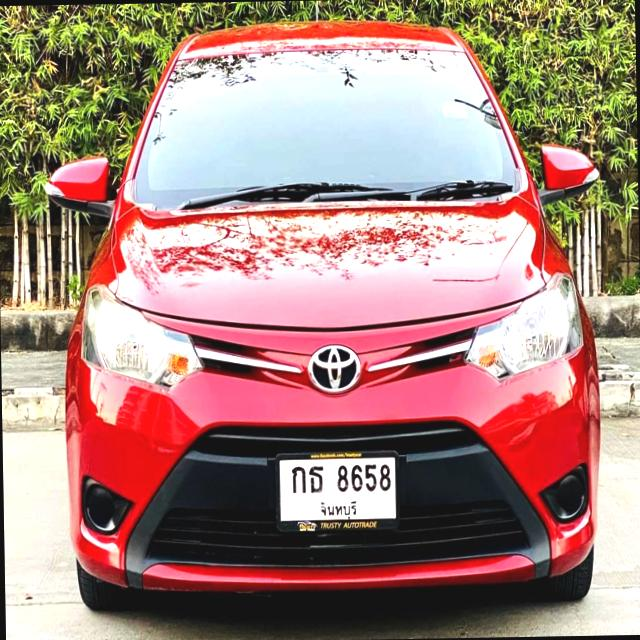license_plate: (273, 452, 408, 531)
